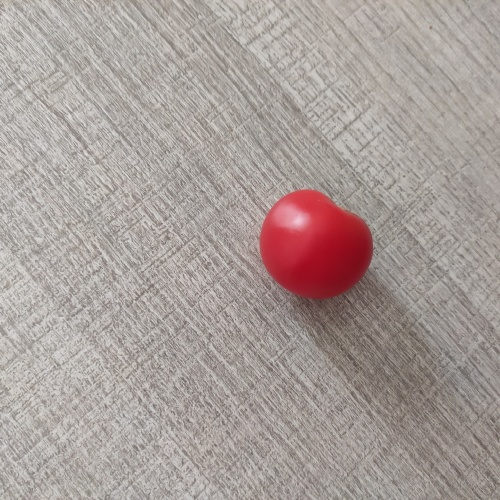pomodoro: (258, 188, 375, 308)
